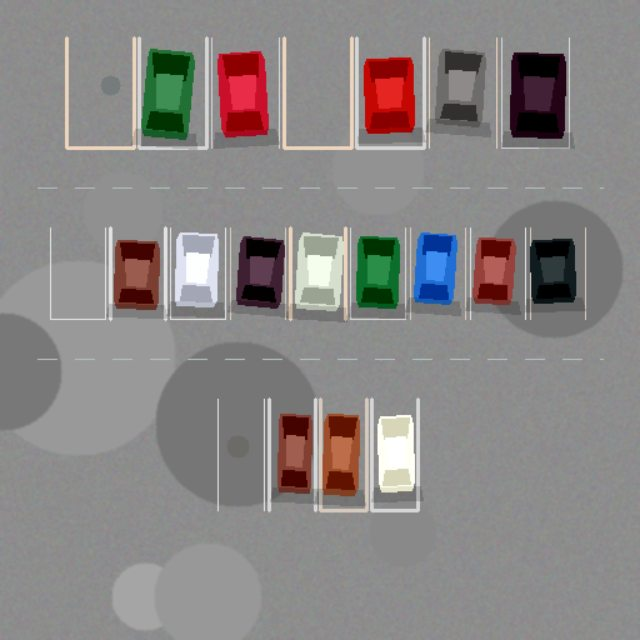space-empty: (66, 37, 134, 147), (284, 37, 351, 147), (218, 399, 264, 510), (50, 228, 105, 319)
space-occupied: (211, 37, 279, 147), (356, 37, 424, 147), (501, 37, 569, 147), (139, 37, 206, 147), (429, 37, 496, 147), (371, 399, 418, 510), (269, 399, 315, 510), (320, 399, 366, 510), (110, 228, 165, 319), (170, 228, 225, 319), (230, 228, 285, 319), (290, 228, 345, 319), (350, 228, 405, 319), (410, 228, 465, 319), (470, 228, 525, 319), (530, 228, 585, 319)
